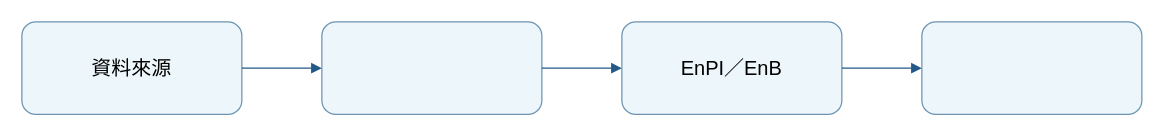
This 1164x136 diagram has some shape labels left out. The shapes that lost their labels are listed below. From the top down, each one's centre as x and y in pixels, then its label:
At point 431,67: "清理與邊界".
At point 1031,67: "管理審查".
